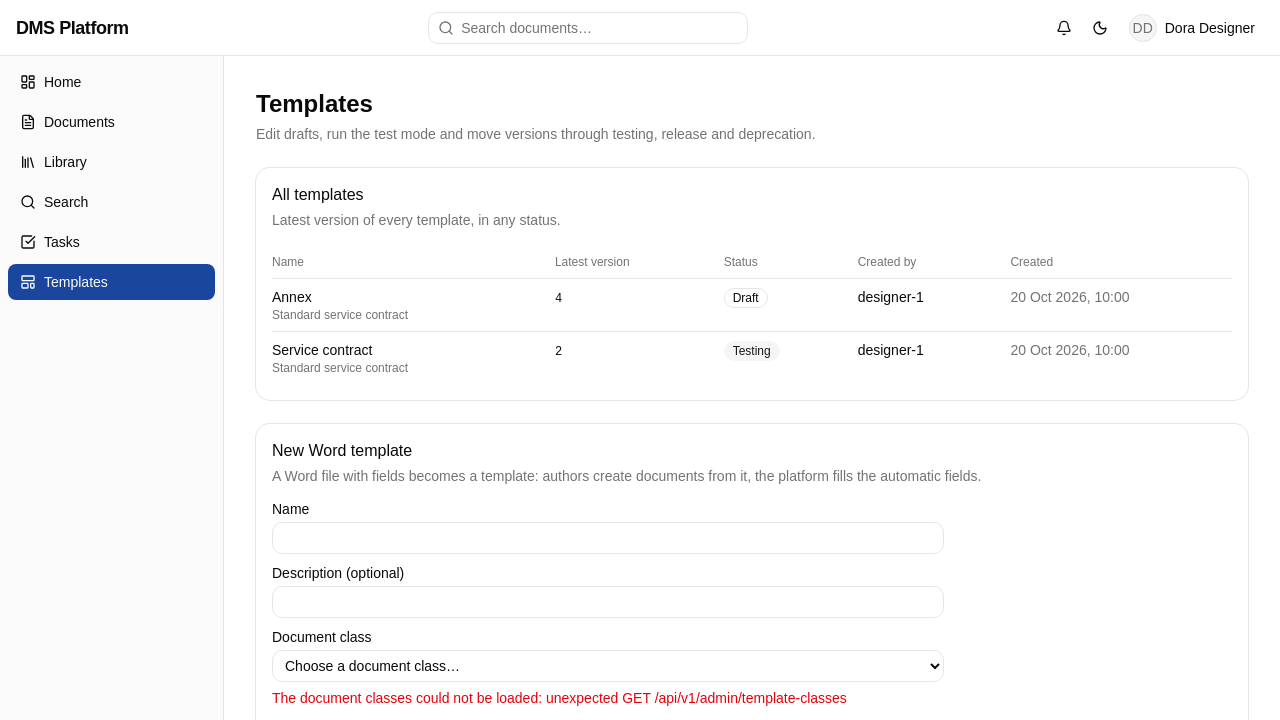
Test: Template list › lists every template with its latest version and status and opens one
Check: the link "Annex" is shown, box [272,289,312,305]
Check: the icon "Draft" is shown, box [724,288,768,308]
Click the link "Service contract". click: (322, 350)
box: [272,342,372,358]
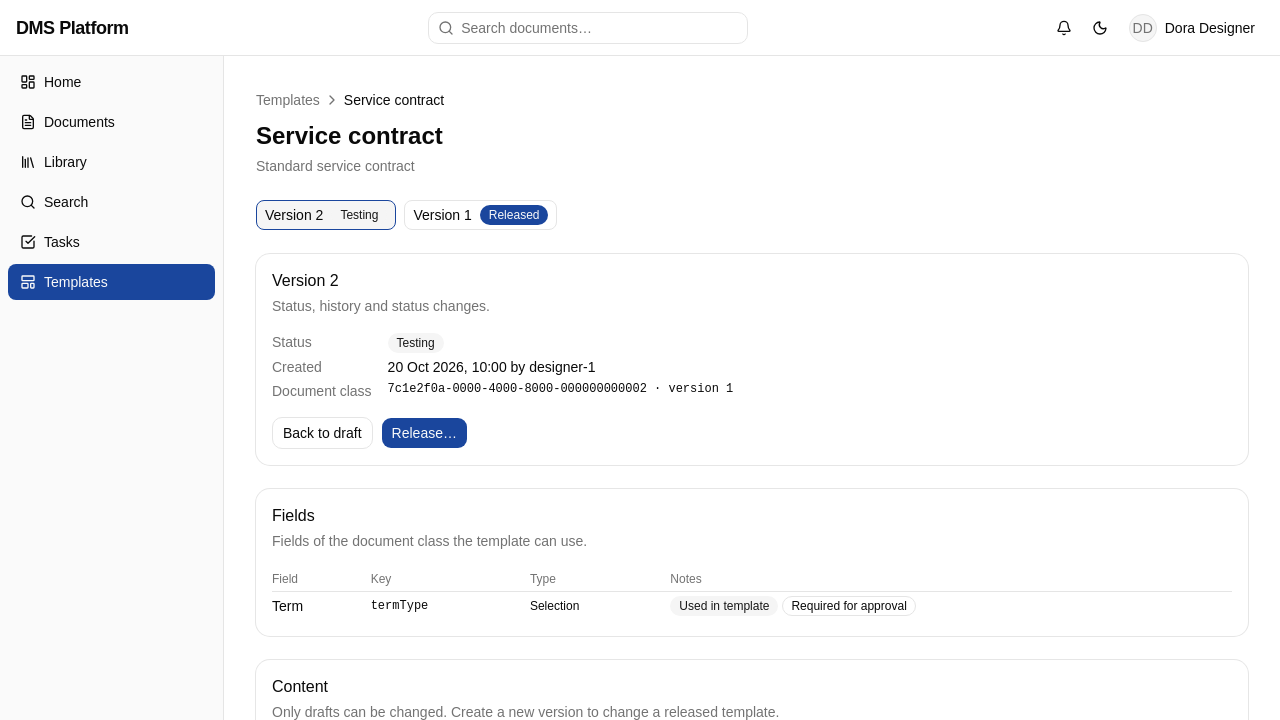
Check: the heading "Version 2" is shown, box [272,272,339,289]
